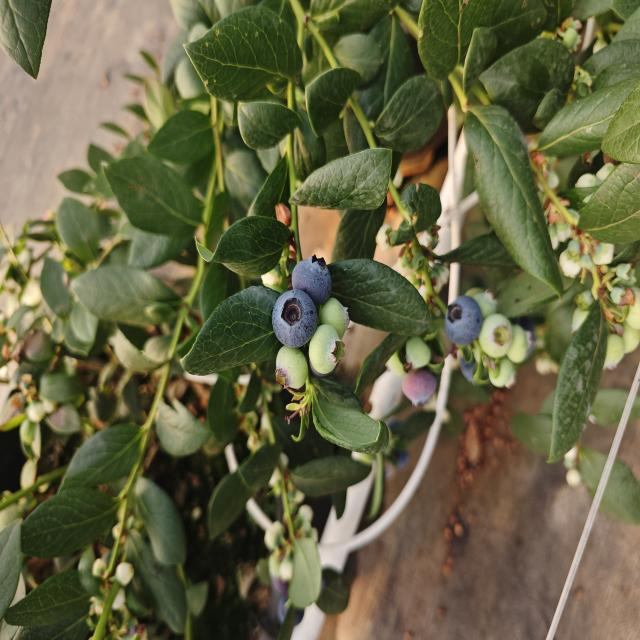ripe: (270, 288, 324, 352), (453, 342, 502, 388), (441, 293, 485, 343), (292, 253, 329, 288)
